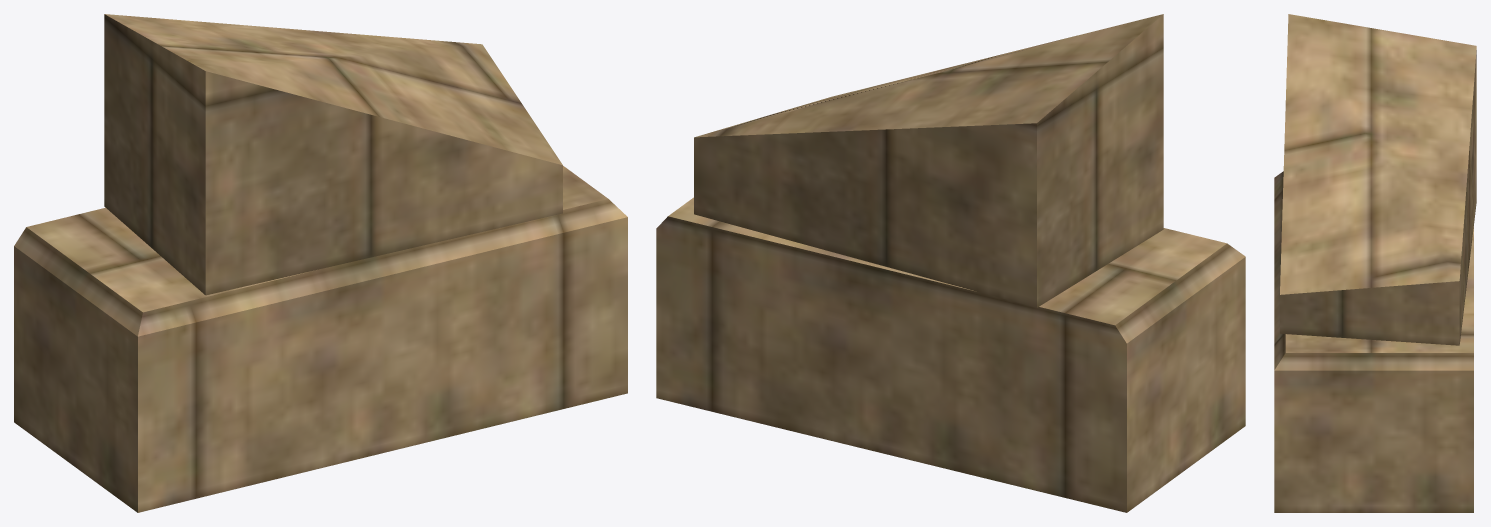
Rendered from debris_seattle_sandstone_block.glb.
3 views of the same model, side by side, from view 1: azimuth 30°, elevation 25°; view 2: azimuth 150°, elevation 25°; view 3: azimuth 270°, elevation 25° (orthographic). The views are drawn at different scales.
Parts seen in each view (by area): view 1: debris_seattle_sandstone_block; view 2: debris_seattle_sandstone_block; view 3: debris_seattle_sandstone_block.
Boxes of the visible parts, x1,y1,x2,y2 form: debris_seattle_sandstone_block: (14, 14, 627, 512); debris_seattle_sandstone_block: (656, 14, 1245, 512); debris_seattle_sandstone_block: (1274, 14, 1476, 512).
Size of the model in its own units: 1.6 by 1.3 by 0.71.
Materials: 1 (1 with a texture image).
